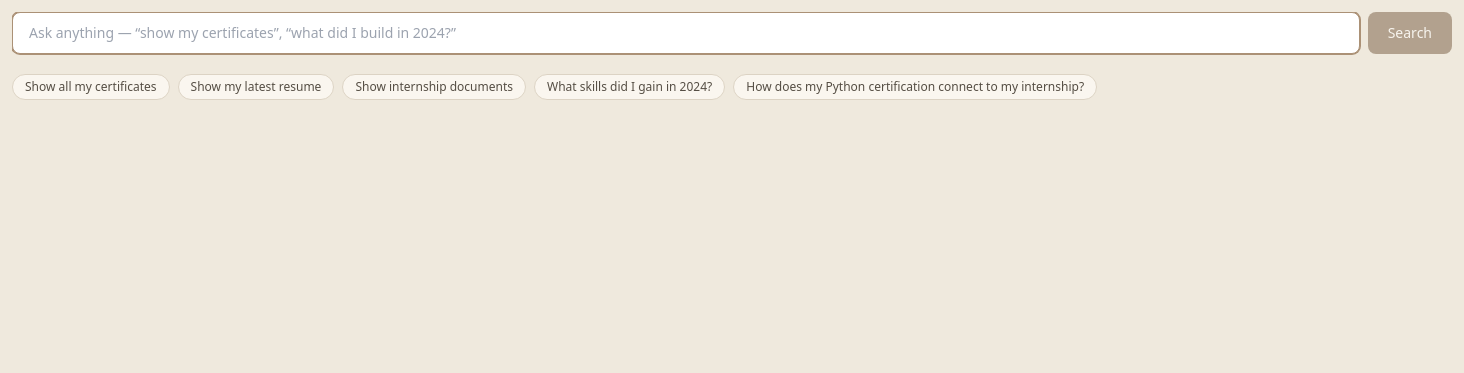
Search routing › question query synthesizes over exactly the returned source ids
The image size is (1464, 373).
Step 1. Type "how does my cert connect to my internship?" into the search field → point(686, 33), box [12, 12, 1360, 54]
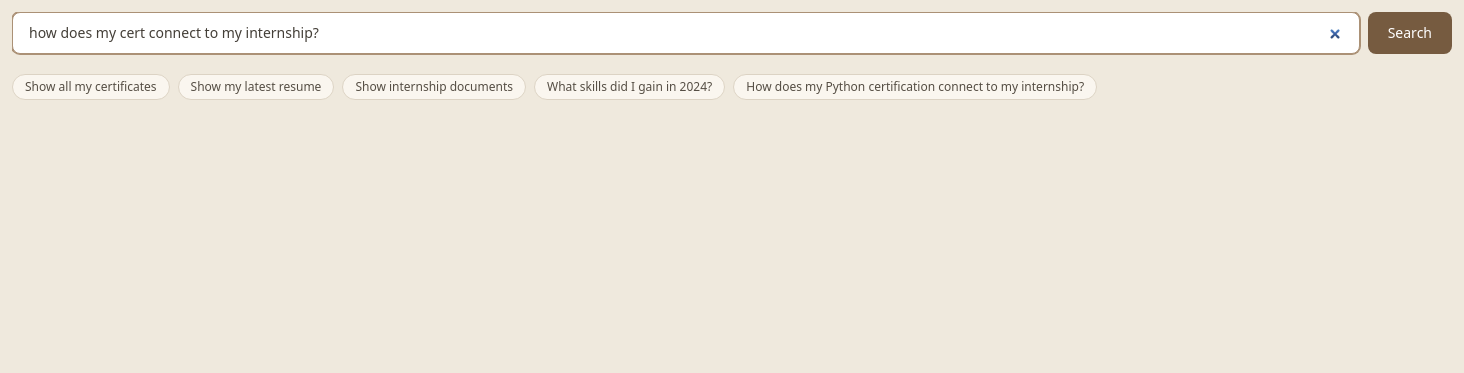
Step 2. Click the button "Search" → point(1410, 33), box [1368, 12, 1452, 54]
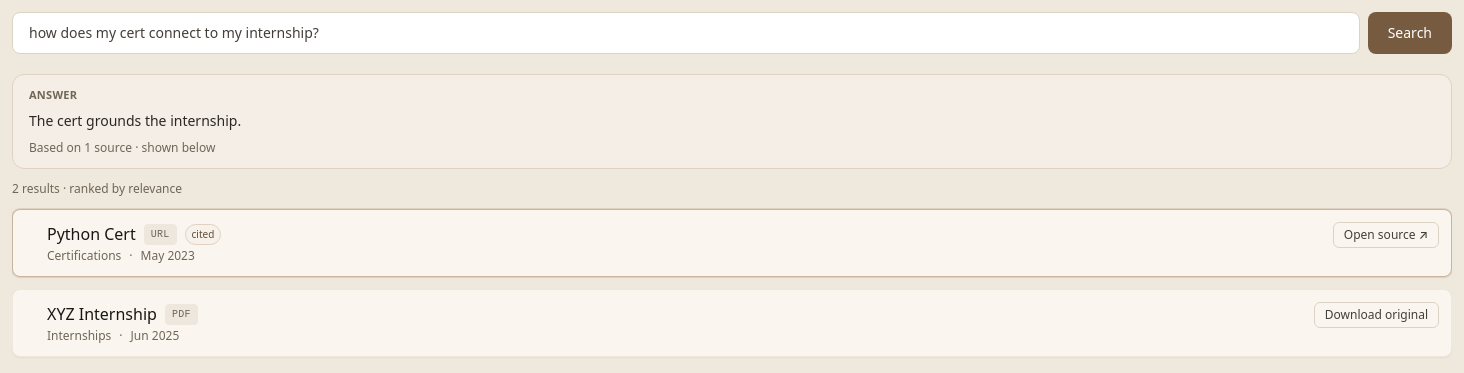
Expected: the text "The cert grounds the internship." is shown, [29, 110, 241, 130]
